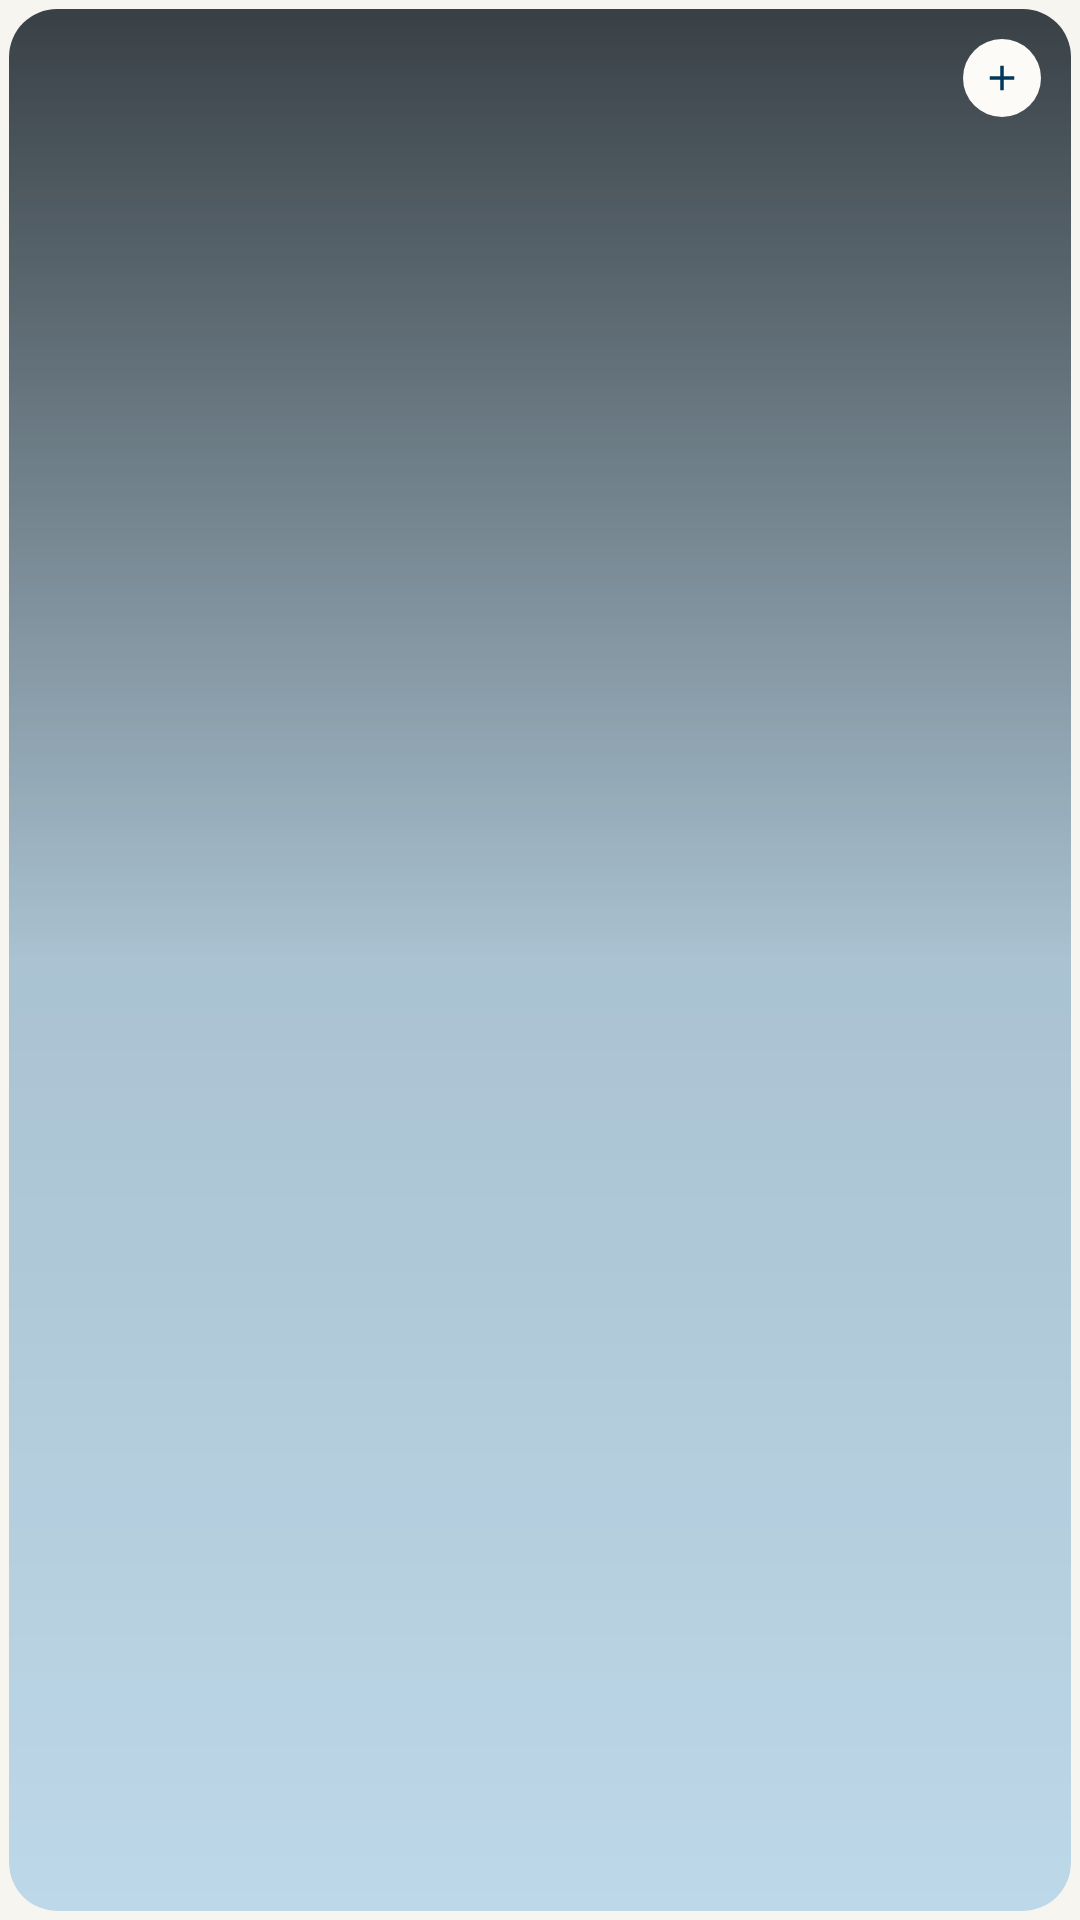

Locate icon controls on the screen. Image size 1080px×1920px, boxes as (x1, y1, x2, y2).
interests plus: (989, 65, 1015, 91)
